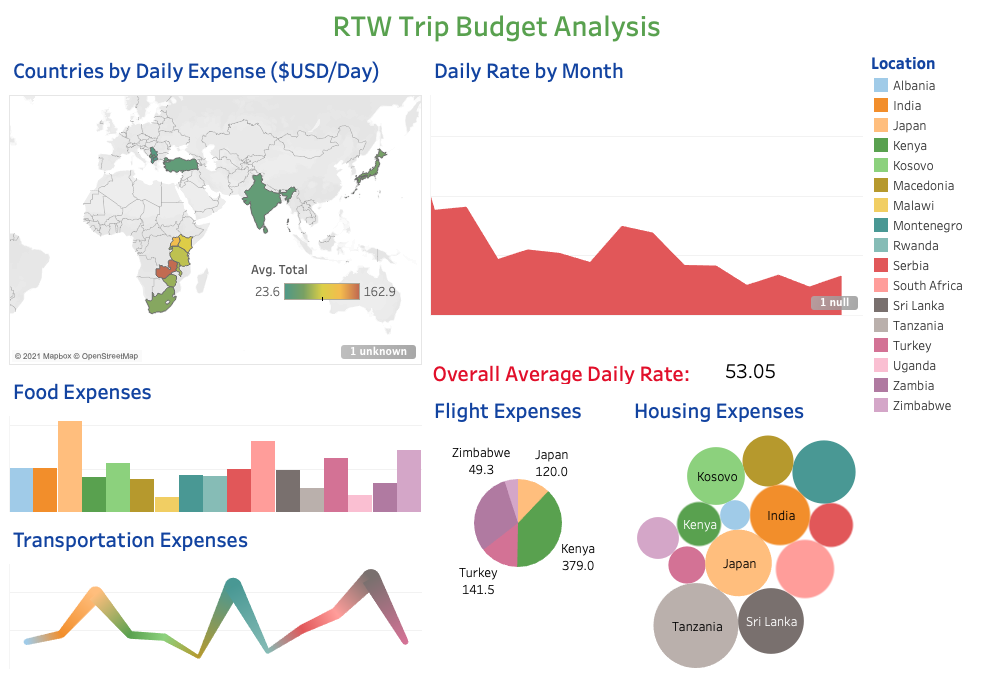

What the dashboard file says about the page in this screenshot:
{"tool":"tableau","page":{"name":"RTW Trip Budget Analysis","canvas":[1000,1000],"units":"permille","ordinal":0},"visuals":[{"type":"worksheet","box":[0,0,1000,1000]},{"type":"worksheet","param":"vert","box":[8,13.2,984,973.6]},{"type":"worksheet","box":[8,13.2,984,74.4]},{"type":"worksheet","box":[8,87.6,984,899.2]},{"type":"worksheet","param":"horz","box":[8,87.6,421,899.2]},{"type":"worksheet","box":[8,87.6,421,899.2]},{"type":"worksheet","title":"Countries by Daily Expense","mark":"Automatic","box":[8,87.6,421,462.2]},{"type":"worksheet","title":"Daily Rate by Month","mark":"Area","rows":["Total"],"cols":["Date"],"box":[429,87.6,440.7,444.2]},{"type":"worksheet","box":[869.6,87.6,122.4,899.2]},{"type":"worksheet","title":"Food Expenses","mark":"Bar","rows":["Calculation_2919106617276268544"],"cols":["Location"],"param":"[federated.1lyou601li93d31dld4px1o81ocq].[none:Location:nk]","box":[869.6,87.6,122.4,899.2]},{"type":"worksheet","title":"Countries by Daily Expense","mark":"Automatic","param":"[federated.1lyou601li93d31dld4px1o81ocq].[avg:Total:qk]","box":[254,388.4,150,112.4]},{"type":"worksheet","box":[429,531.8,291,45.4]},{"type":"worksheet","title":"Overall Daily Rate","mark":"Automatic","box":[720,531.8,149.7,45.4]},{"type":"worksheet","title":"Food Expenses","mark":"Bar","rows":["Calculation_2919106617276268544"],"cols":["Location"],"box":[8,549.8,421,211.8]},{"type":"worksheet","title":"Flight Expenses","mark":"Pie","box":[429,577.2,200,409.6]},{"type":"worksheet","title":"Housing Expenses","mark":"Circle","box":[629,577.2,240.7,409.6]},{"type":"worksheet","title":"Transportation Expenses","mark":"Line","rows":["Calculation_2919106617296097282"],"cols":["Location"],"box":[8,761.7,421,225.1]}]}

Visuals, with their boxes on the dashboard's canvas, which has no fixed pixel size, in thousandths of its width and height (x1, y1, x2, y2). These are canvas units, not pixel positions in the 992x680 screenshot, which may show the page scaled, cropped or inside an application window:
worksheet: {"x1": 0, "y1": 0, "x2": 1000, "y2": 1000}
worksheet: {"x1": 8, "y1": 13, "x2": 992, "y2": 987}
worksheet: {"x1": 8, "y1": 13, "x2": 992, "y2": 88}
worksheet: {"x1": 8, "y1": 88, "x2": 992, "y2": 987}
worksheet: {"x1": 8, "y1": 88, "x2": 429, "y2": 987}
worksheet: {"x1": 8, "y1": 88, "x2": 429, "y2": 987}
"Countries by Daily Expense" worksheet: {"x1": 8, "y1": 88, "x2": 429, "y2": 550}
"Daily Rate by Month" worksheet (Area marks): {"x1": 429, "y1": 88, "x2": 870, "y2": 532}
worksheet: {"x1": 870, "y1": 88, "x2": 992, "y2": 987}
"Food Expenses" worksheet (Bar marks): {"x1": 870, "y1": 88, "x2": 992, "y2": 987}
"Countries by Daily Expense" worksheet: {"x1": 254, "y1": 388, "x2": 404, "y2": 501}
worksheet: {"x1": 429, "y1": 532, "x2": 720, "y2": 577}
"Overall Daily Rate" worksheet: {"x1": 720, "y1": 532, "x2": 870, "y2": 577}
"Food Expenses" worksheet (Bar marks): {"x1": 8, "y1": 550, "x2": 429, "y2": 762}
"Flight Expenses" worksheet (Pie marks): {"x1": 429, "y1": 577, "x2": 629, "y2": 987}
"Housing Expenses" worksheet (Circle marks): {"x1": 629, "y1": 577, "x2": 870, "y2": 987}
"Transportation Expenses" worksheet (Line marks): {"x1": 8, "y1": 762, "x2": 429, "y2": 987}
